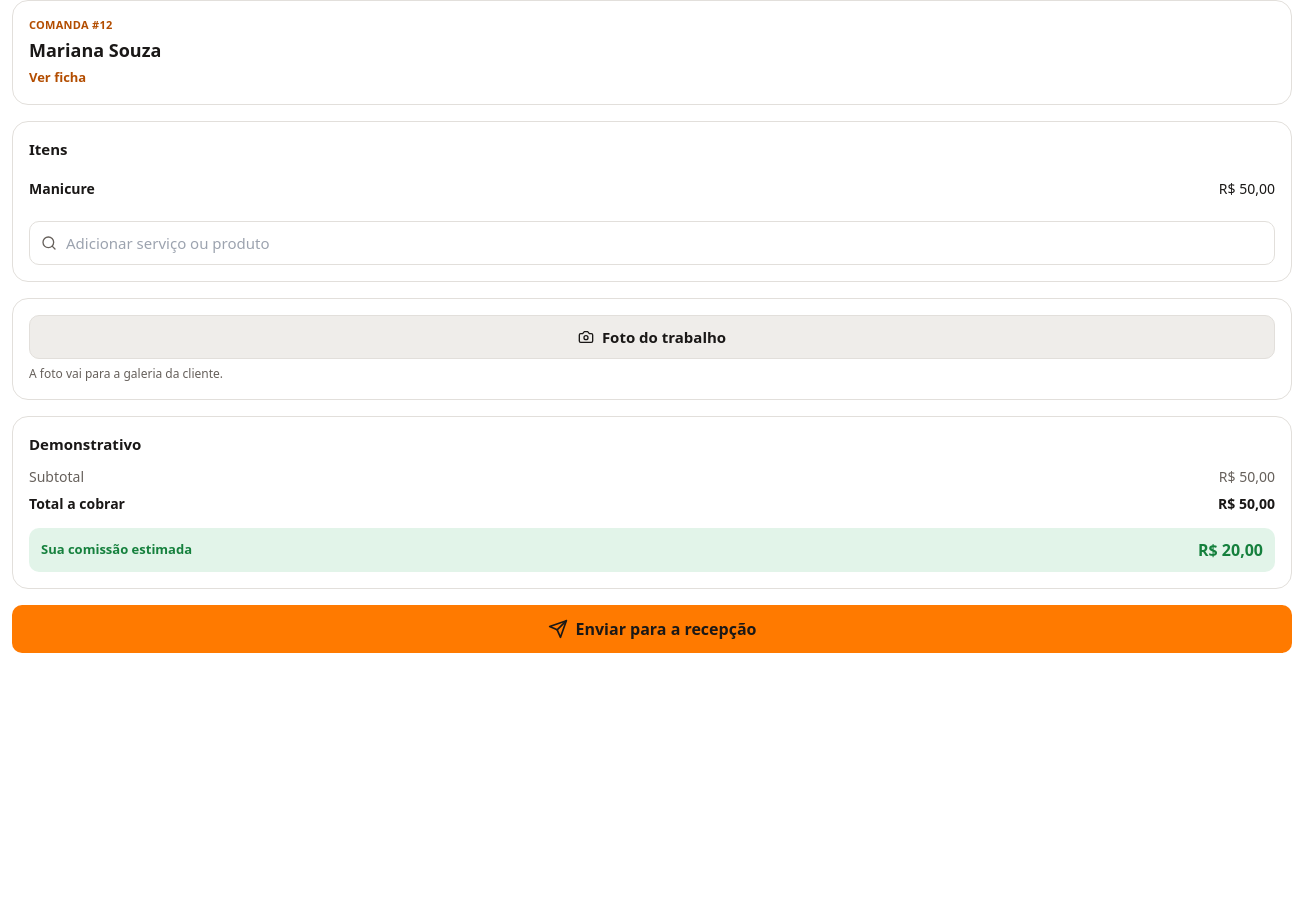
Test: Fechar atendimento › sem a chave: mostra a comissão estimada e envia para a recepção
Check: the text "Sua comissão estimada" is shown, box top-left (41, 540), bottom-right (192, 559)
Check: the text "R$ 20,00" is shown, box top-left (1198, 538), bottom-right (1263, 562)
Step 1. Click the button "Enviar para a recepção" → x=652, y=628, box top-left (12, 604), bottom-right (1292, 652)
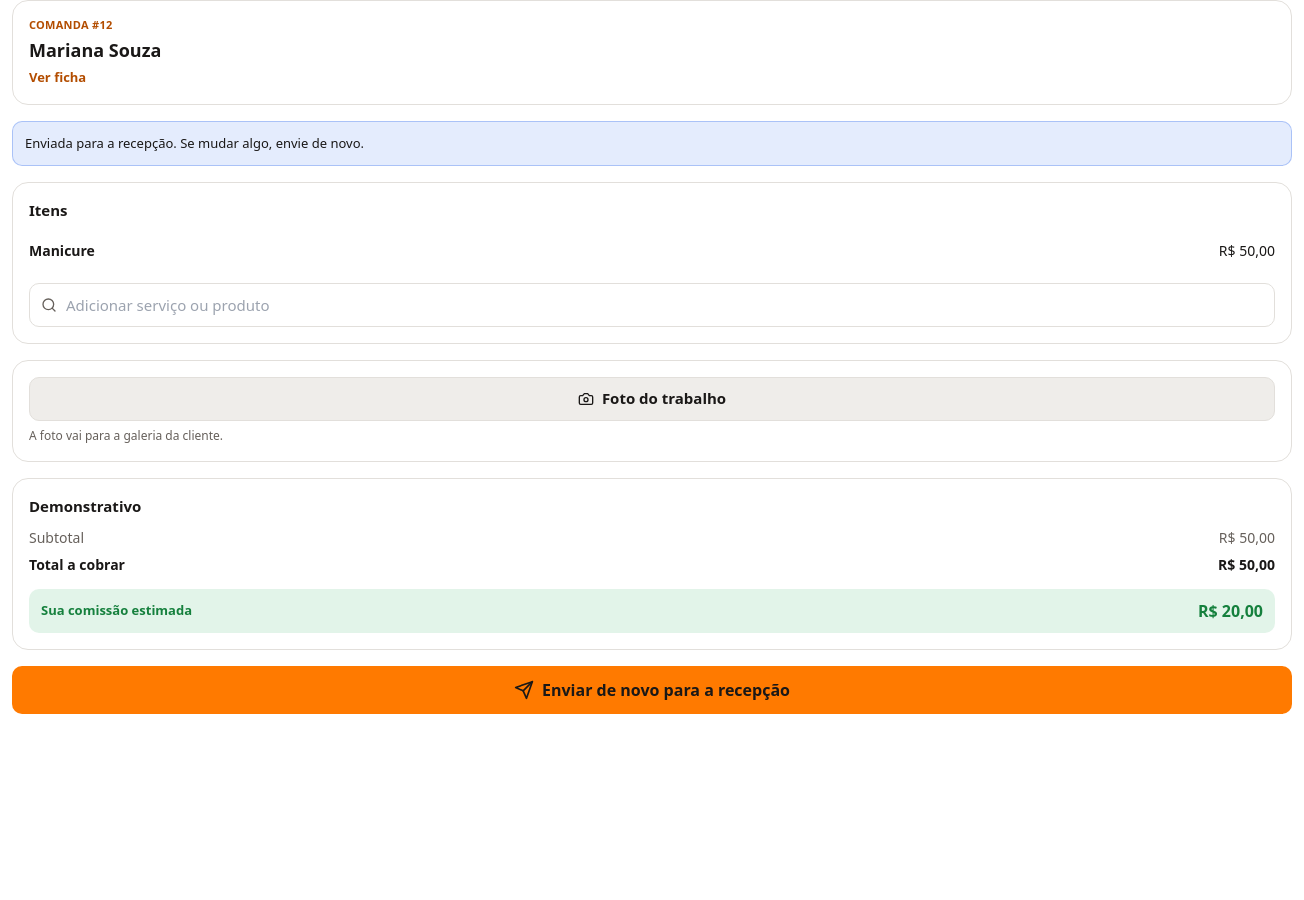
Check: the text "Enviada para a recepção. Se mudar algo, envie de novo." is shown, box top-left (12, 120), bottom-right (1292, 166)
